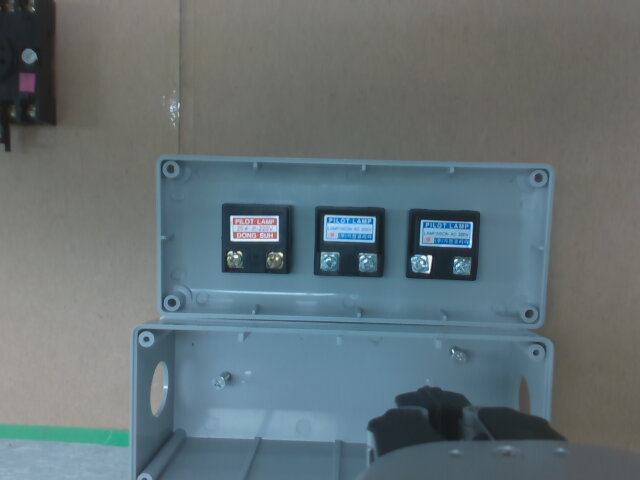L1(1): (226, 251, 243, 268)
L1(2): (266, 252, 283, 269)
L2(1): (320, 252, 339, 270)
L2(2): (358, 253, 377, 272)
L3(1): (412, 254, 432, 273)
L3(2): (453, 257, 471, 275)
